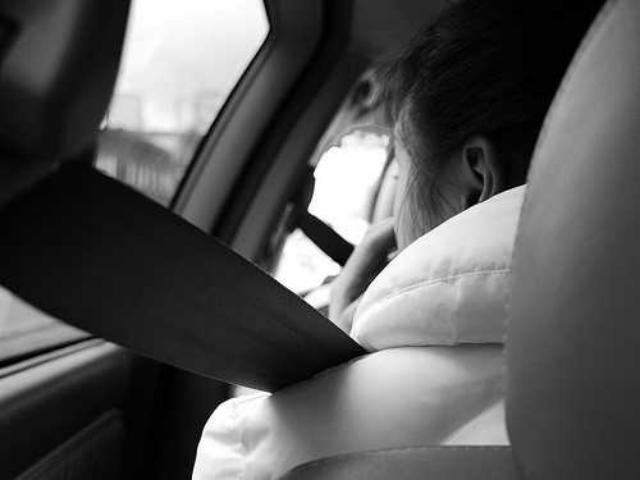Seatbelt: (0, 1, 378, 388)
